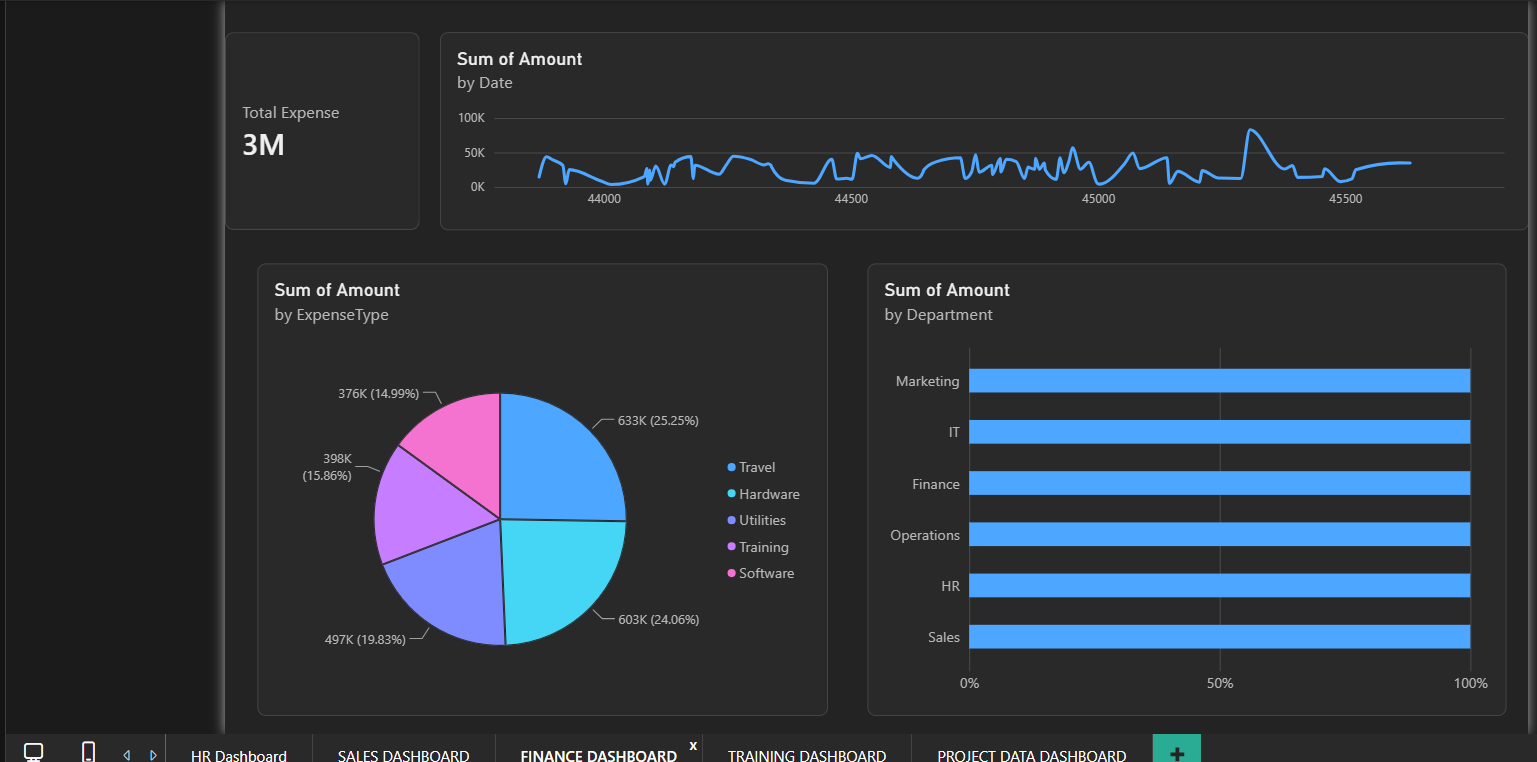

The page's visual inventory and layout, read from the dashboard file:
{"tool":"powerbi","page":{"name":"FINANCE DASHBOARD","canvas":[1280,720],"ordinal":2},"visuals":[{"type":"cardVisual","fields":{"Data":["Finance_Data.Total Expense"]},"box":[0,31.1,191.6,194.1],"z":0},{"type":"pieChart","fields":{"Category":["Finance_Data.ExpenseType"],"Y":["Sum(Finance_Data.Amount)"]},"box":[32.3,257.5,559.8,444.1],"z":1000},{"type":"hundredPercentStackedBarChart","fields":{"Category":["Finance_Data.Department"],"Y":["Sum(Finance_Data.Amount)"]},"box":[630.7,257.5,627,444.1],"z":2000},{"type":"lineChart","fields":{"Category":["Finance_Data.Date"],"Y":["Sum(Finance_Data.Amount)"]},"box":[211.5,31.1,1068.6,194.1],"z":3000}]}

Visuals, with their boxes on the page's 1280x720 design canvas (x1, y1, x2, y2). These are canvas units, not pixel positions in the 1537x762 screenshot, which may show the page scaled, cropped or inside an application window:
cardVisual - Finance_Data.Total Expense: <box>0,31,192,225</box>
pieChart - Finance_Data.ExpenseType x Sum(Finance_Data.Amount): <box>32,258,592,702</box>
hundredPercentStackedBarChart - Finance_Data.Department x Sum(Finance_Data.Amount): <box>631,258,1258,702</box>
lineChart - Finance_Data.Date x Sum(Finance_Data.Amount): <box>212,31,1280,225</box>
